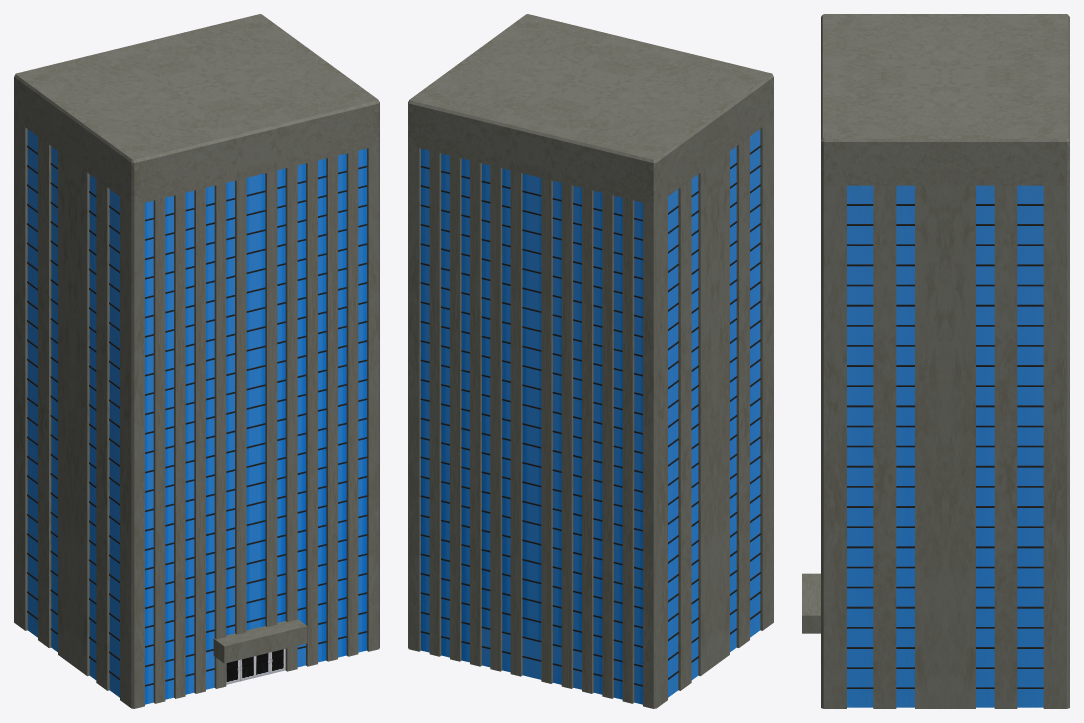
3 views of the same model, side by side, from view 1: azimuth 30°, elevation 25°; view 2: azimuth 150°, elevation 25°; view 3: azimuth 270°, elevation 25° (orthographic). The views are drawn at different scales.
Parts seen in each view (by area): view 1: Object005, Box001, Object003; view 2: Object005, Box001, Object003; view 3: Object005, Box001, Object003.
Part boxes in pixels (<box>): Object005: <box>14,14,379,340</box>; Box001: <box>14,410,379,708</box>; Object003: <box>14,255,379,495</box>; Object005: <box>408,14,773,340</box>; Box001: <box>408,410,773,708</box>; Object003: <box>408,255,773,495</box>; Object005: <box>821,14,1069,326</box>; Box001: <box>802,486,1069,708</box>; Object003: <box>821,326,1069,487</box>.
Bounding box in the file's own units: 976 × 2057 × 876.
